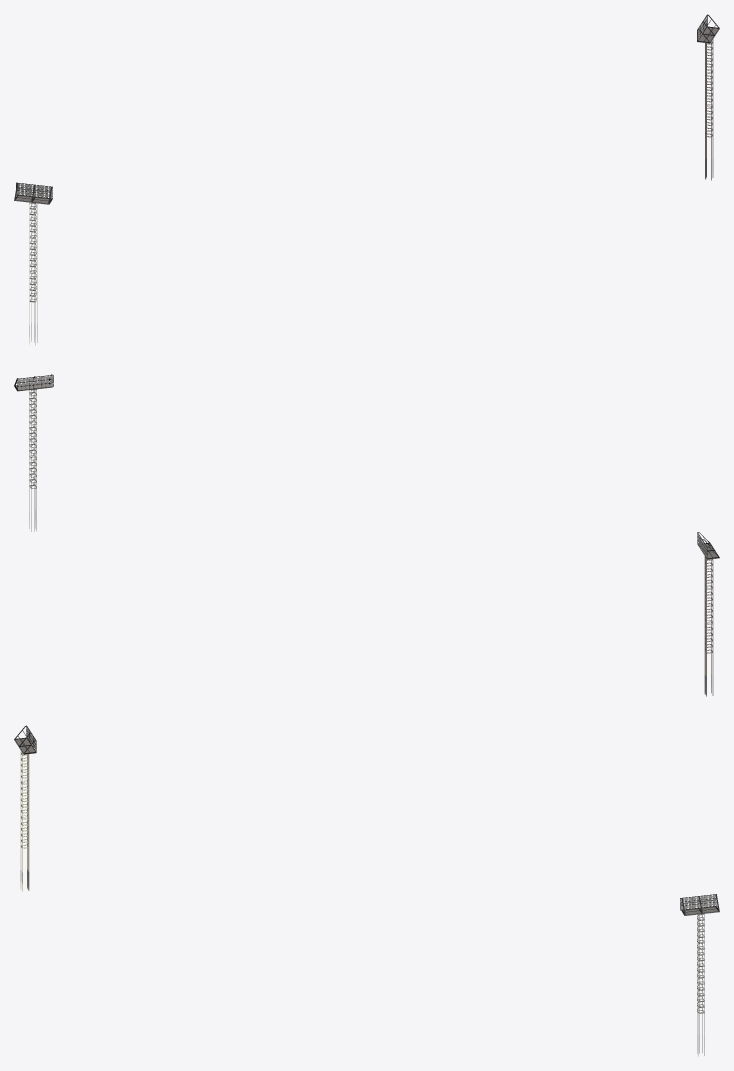
Rendered from Light With Stand_02.fbx.
The picture shows the model from 3 angles, top to bottom: view 1: azimuth 30°, elevation 25°; view 2: azimuth 150°, elevation 25°; view 3: azimuth 330°, elevation 25°; orthographic projection.
Visible parts, largest first — view 1: Light With Stand_02; view 2: Light With Stand_02; view 3: Light With Stand_02.
Boxes of the visible parts, bbox=[...] form: Light With Stand_02: bbox=[14, 14, 719, 345]; Light With Stand_02: bbox=[14, 374, 719, 696]; Light With Stand_02: bbox=[14, 725, 719, 1056].
Size of the model in its own units: 6359 by 1344 by 283.
1 material, 1 textured.
